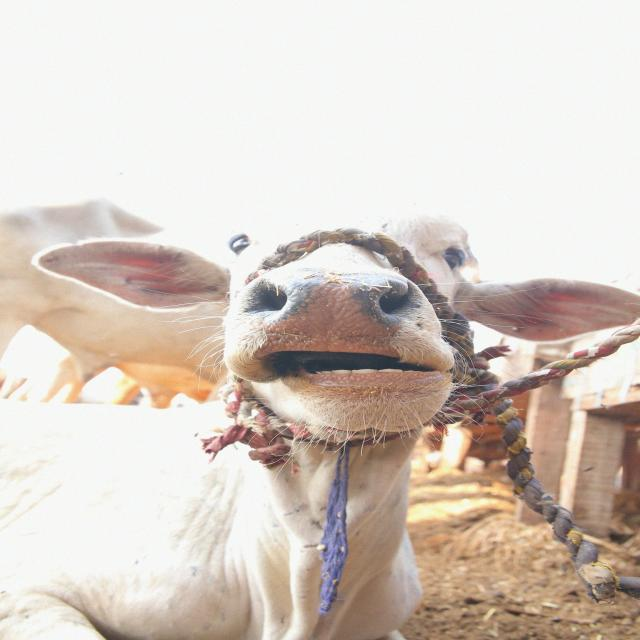muzzles: (214, 266, 451, 368)
